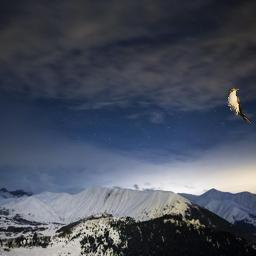Cuckoo: (227, 88, 252, 124)
